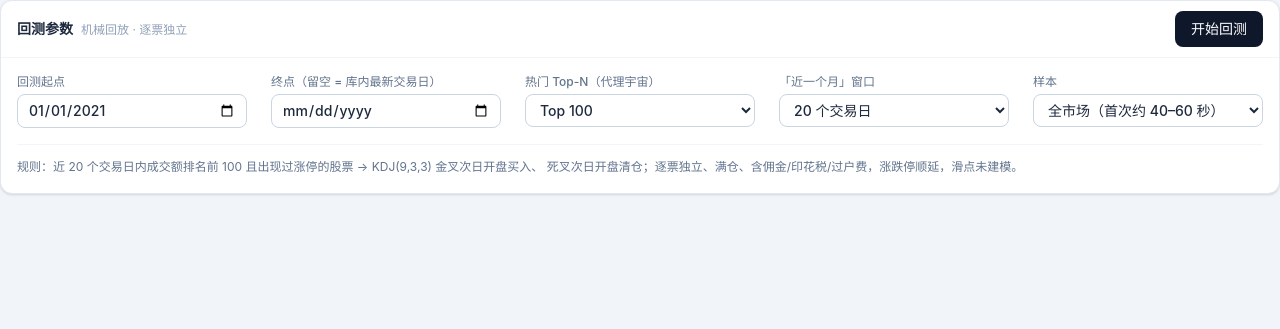
Test: BacktestPanel › 库未就绪：给出可操作提示，而不是笼统的失败
This screenshot has width=1280, height=329.
Click the button "开始回测".
click(1219, 29)  # box 1175,11 -> 1263,47
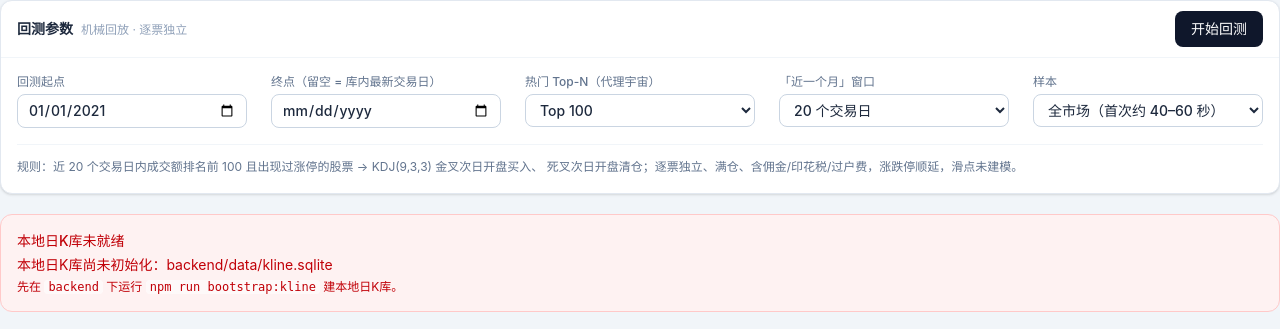
Expected: the text "本地日K库未就绪" is shown, 17,232 -> 125,248
Expected: the text "npm run bootstrap:kline" is shown, 146,280 -> 320,294
